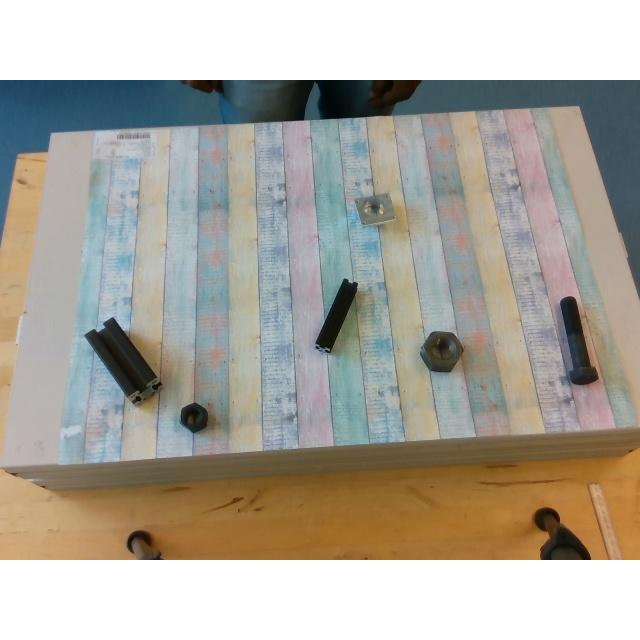F20_20_B: (316, 279, 356, 349)
M20: (180, 402, 208, 434)
M20_100: (560, 296, 596, 384)
M30: (420, 331, 462, 371)
S40_40_B: (85, 317, 161, 403)
